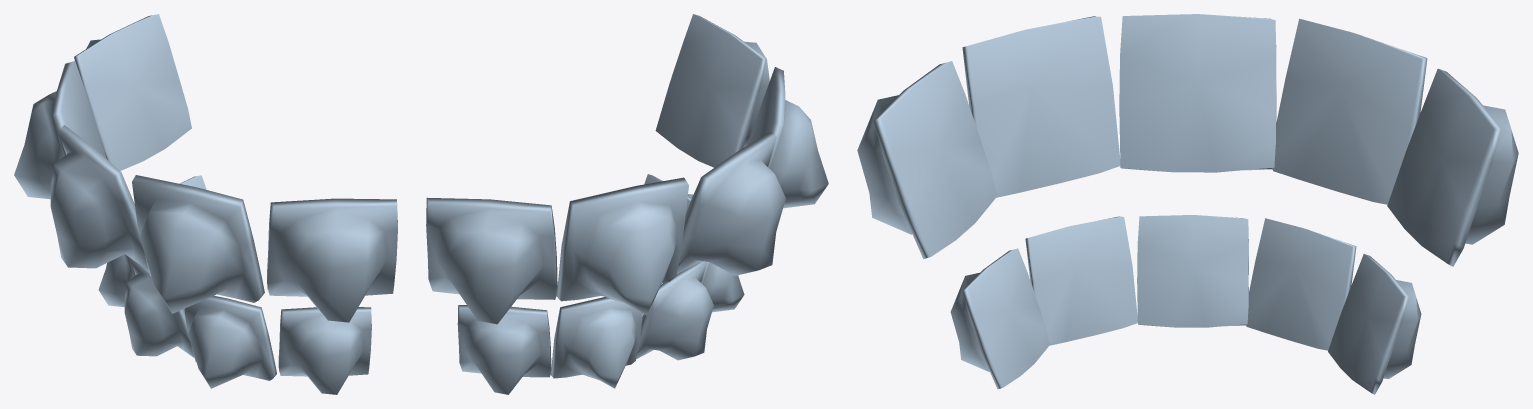
Rendered from Statues_Grp_03B_Lod1.fbx.
3 views of the same model, side by side, from view 1: azimuth 30°, elevation 25°; view 2: azimuth 150°, elevation 25°; view 3: azimuth 270°, elevation 25° (orthographic). The views are drawn at different scales.
Visible parts, largest first — view 1: Statues_Grp_03B_Lod1; view 2: Statues_Grp_03B_Lod1; view 3: Statues_Grp_03B_Lod1.
Boxes of the visible parts, <box> form: Statues_Grp_03B_Lod1: <box>14,14,397,394</box>; Statues_Grp_03B_Lod1: <box>426,14,828,394</box>; Statues_Grp_03B_Lod1: <box>857,14,1518,394</box>.
Size of the model in its own units: 121 by 108 by 236.
